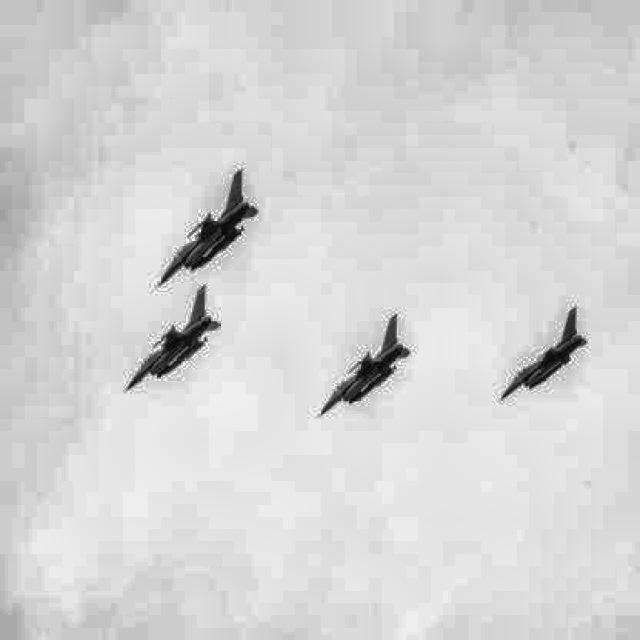F16: (155, 168, 259, 289), (123, 284, 222, 393), (316, 314, 412, 418), (497, 306, 589, 403)
